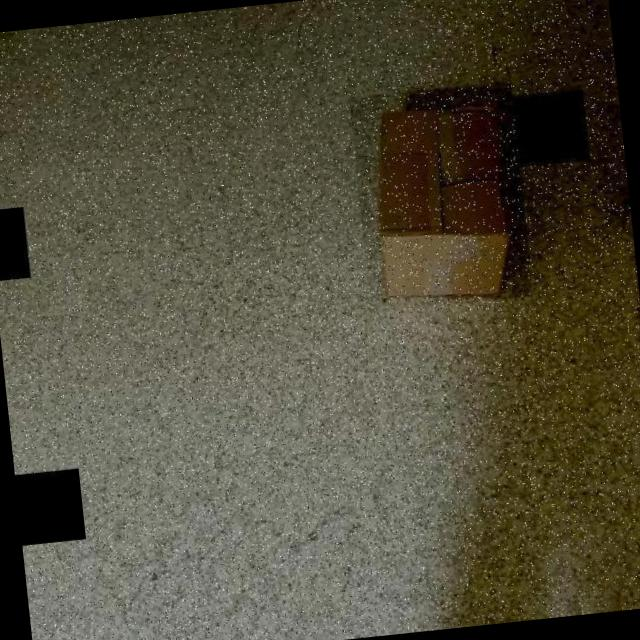box: (348, 80, 534, 313)
